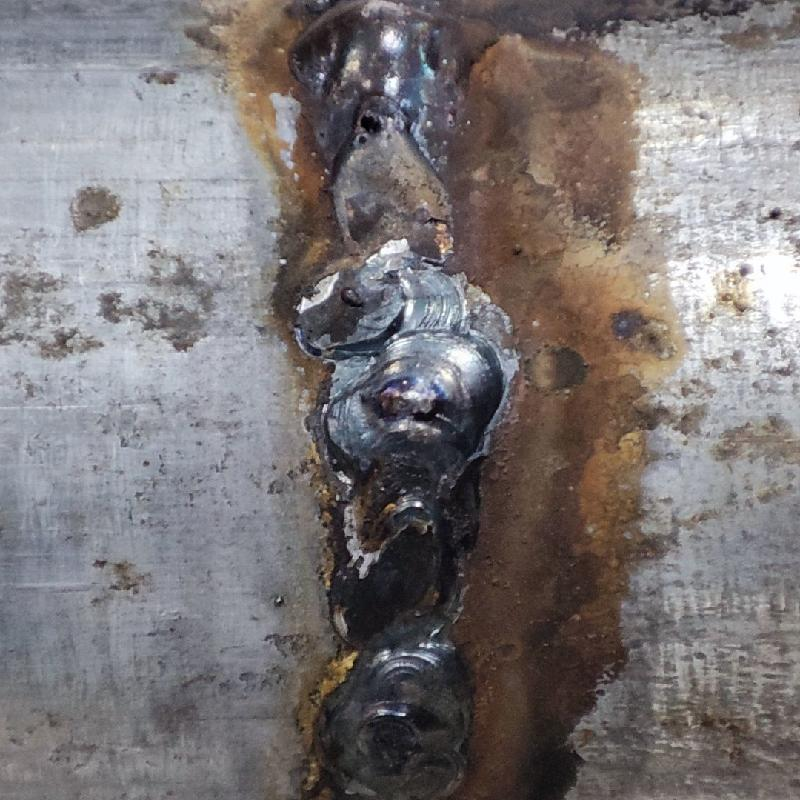Not_fully_soldered: (293, 94, 474, 338)
Surface_pores: (334, 101, 410, 150)
Weld: (273, 3, 490, 95)
wrong_size: (316, 341, 511, 799)
